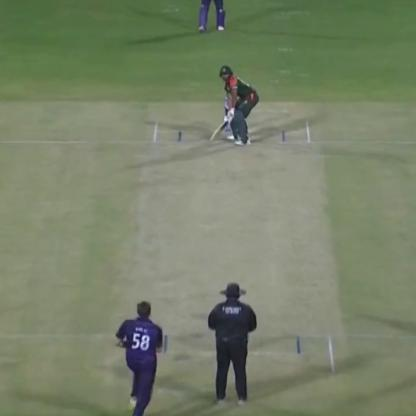bat: (208, 110, 232, 141)
pitch: (144, 121, 340, 378)
